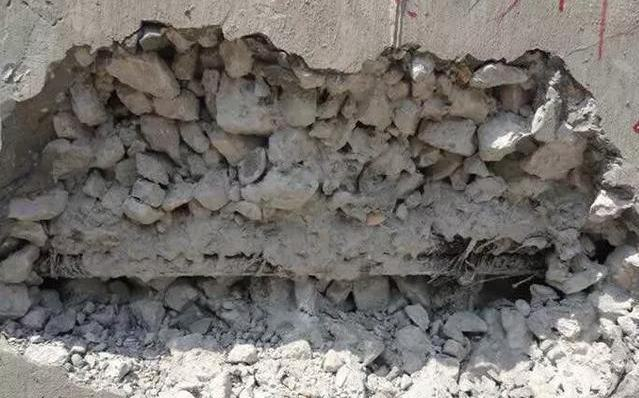Exposed reinforcement: (31, 254, 548, 282)
Spalling: (1, 18, 639, 398)
